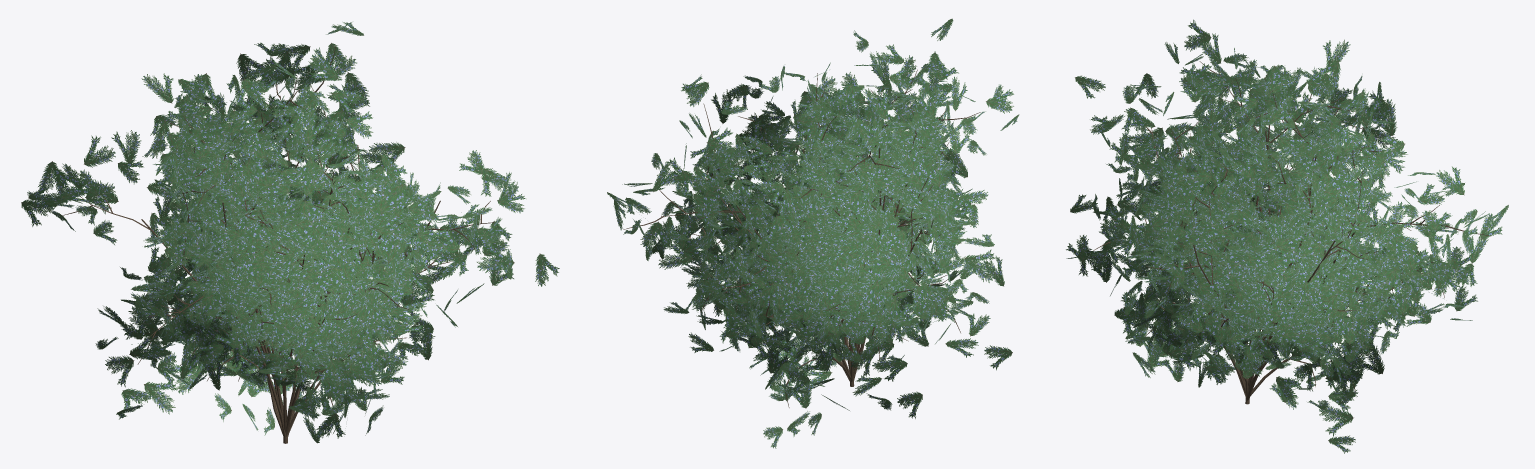
Rendered from RM2_Rosemary_UprightBush_1.3m.glb.
The picture shows the model from 3 angles, left to right: view 1: azimuth 30°, elevation 25°; view 2: azimuth 150°, elevation 25°; view 3: azimuth 270°, elevation 25°; orthographic projection. The views are drawn at different scales.
Visible parts, largest first — view 1: RM2_leaves, RM2_wood; view 2: RM2_leaves, RM2_wood; view 3: RM2_leaves, RM2_wood.
Part boxes in pixels (<box>): RM2_leaves: <box>21,22,559,443</box>; RM2_wood: <box>62,46,493,443</box>; RM2_leaves: <box>607,18,1019,448</box>; RM2_wood: <box>623,69,980,407</box>; RM2_leaves: <box>1066,19,1508,453</box>; RM2_wood: <box>1093,61,1490,404</box>.
Bounding box in the file's own units: 1.52 × 1.44 × 1.54.
2 materials, 2 textured.
